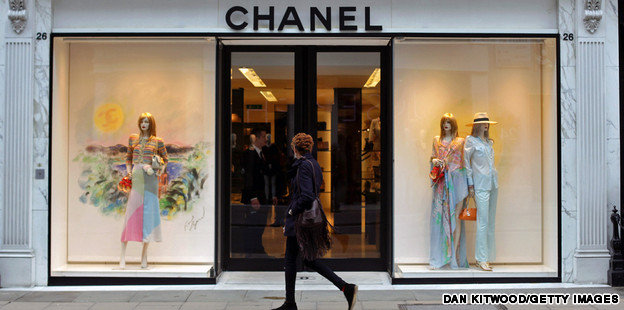Not_Face: (476, 111, 499, 139), (293, 134, 314, 161), (137, 111, 158, 137), (439, 116, 457, 138), (253, 130, 272, 148)
